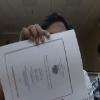notebook: (0, 28, 94, 99)
